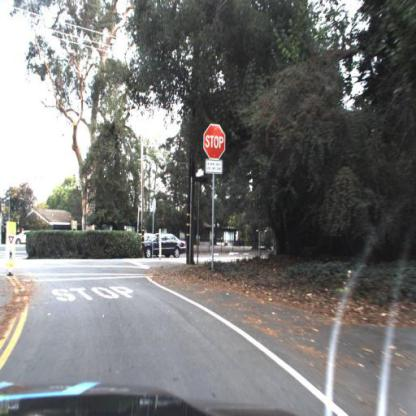car: (143, 232, 188, 259)
